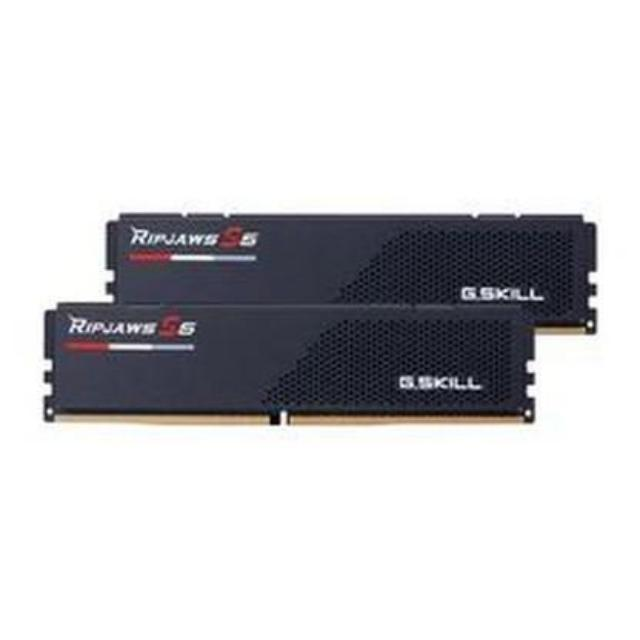RAM: (38, 206, 608, 432)
